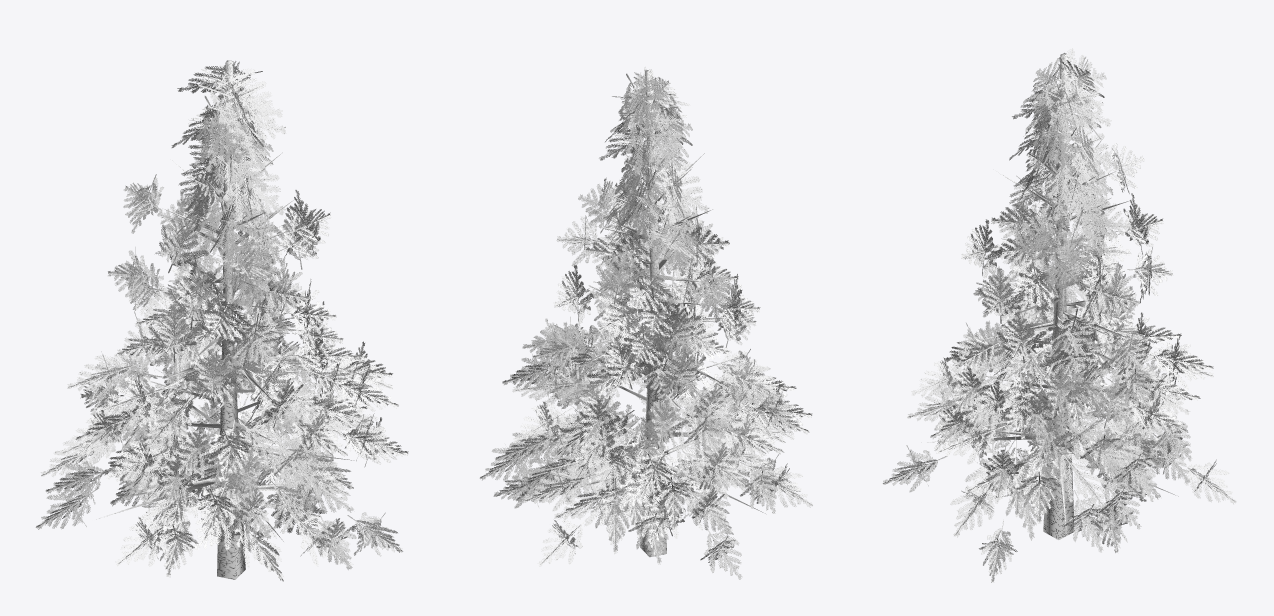
Rendered from Spruce_LOD1_P2204_B1344_L840_v01.fbx.
3 views of the same model, side by side, from view 1: azimuth 30°, elevation 25°; view 2: azimuth 150°, elevation 25°; view 3: azimuth 270°, elevation 25° (orthographic). The views are drawn at different scales.
Parts seen in each view (by area): view 1: leafclumpatlas_spruce_1, sprucebarktextureseamless_0; view 2: leafclumpatlas_spruce_1, sprucebarktextureseamless_0; view 3: leafclumpatlas_spruce_1, sprucebarktextureseamless_0.
Part boxes in pixels (x1,y1,x2,y2): leafclumpatlas_spruce_1: (35,61,408,581); sprucebarktextureseamless_0: (96,60,356,579); leafclumpatlas_spruce_1: (479,67,812,579); sprucebarktextureseamless_0: (538,69,788,557); leafclumpatlas_spruce_1: (883,48,1236,582); sprucebarktextureseamless_0: (921,53,1178,539).
Bounding box in the file's own units: 679 × 1045 × 717.
